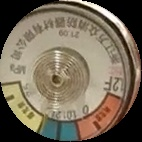green: (38, 116, 80, 142)
red: (75, 91, 126, 141)
yellow: (2, 82, 45, 137)
